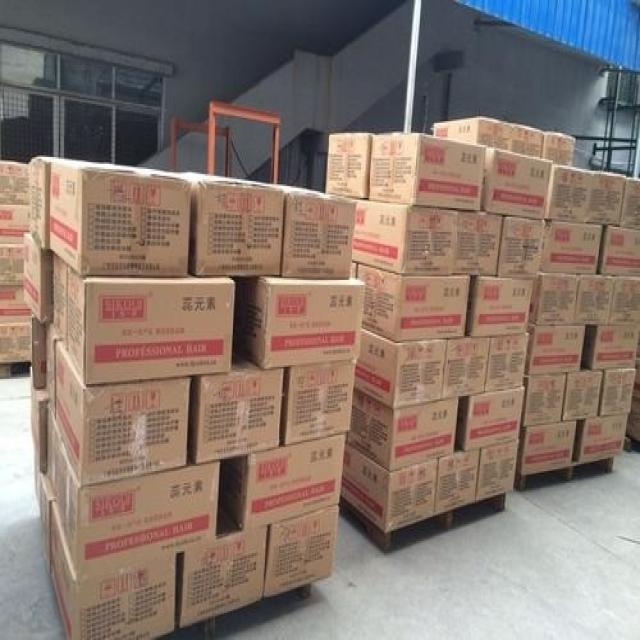box: (58, 445, 220, 580), (67, 263, 237, 384), (56, 341, 191, 486), (47, 502, 175, 638), (50, 155, 191, 276), (163, 171, 284, 278), (352, 198, 503, 276), (239, 276, 365, 369), (179, 500, 268, 631), (227, 433, 346, 527), (252, 179, 356, 280), (188, 358, 283, 464), (352, 261, 471, 341), (346, 387, 458, 471), (369, 133, 485, 212), (342, 442, 438, 534), (355, 328, 449, 408), (265, 503, 339, 597), (279, 360, 357, 447), (544, 160, 626, 227), (480, 145, 553, 218), (431, 116, 543, 157), (456, 387, 524, 451), (466, 278, 532, 338), (539, 218, 603, 273), (516, 418, 576, 474), (495, 215, 545, 280), (525, 321, 585, 374), (33, 451, 59, 573), (440, 336, 490, 399), (436, 444, 480, 514), (22, 230, 54, 323), (29, 157, 60, 251), (326, 133, 372, 196), (529, 270, 579, 326), (476, 437, 518, 502), (486, 333, 530, 394), (520, 372, 567, 427), (572, 415, 628, 461), (582, 326, 639, 370), (572, 273, 614, 326), (596, 225, 640, 273), (562, 370, 602, 422), (598, 369, 636, 418), (609, 273, 640, 326), (52, 253, 68, 352), (31, 387, 49, 474), (44, 321, 60, 418), (0, 160, 31, 205), (0, 285, 35, 323), (0, 323, 32, 364), (47, 404, 60, 498), (626, 357, 640, 442), (540, 133, 576, 164), (0, 242, 24, 287), (0, 205, 29, 242), (620, 176, 640, 229), (32, 312, 46, 387)
